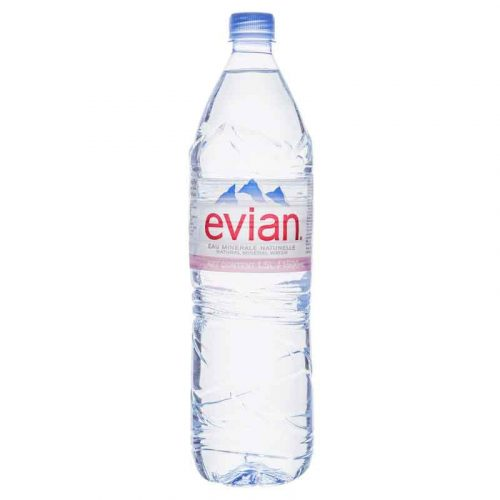PlasticBottle: (184, 6, 317, 488)
